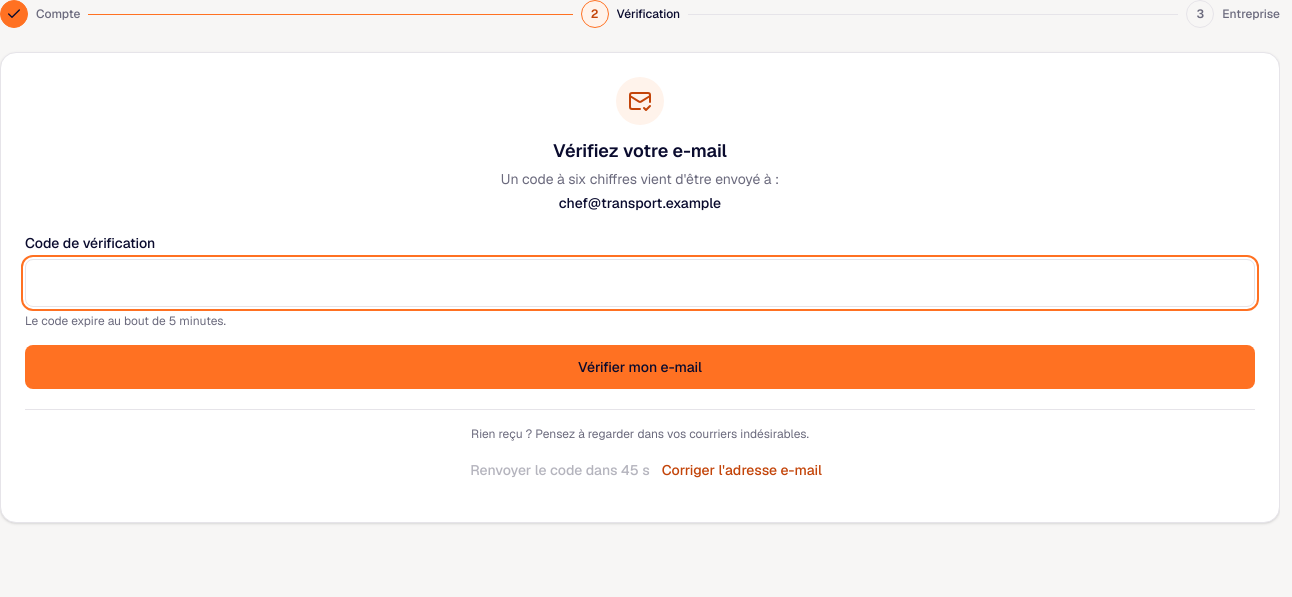
Test case: RegisterFlow › affiche l'expiration du code sans quitter l'étape
The width and height of the screenshot is (1292, 597).
Type "100420" into the field labelled "Code de vérification". click: x=640, y=283
box: 25,259 -> 1255,307
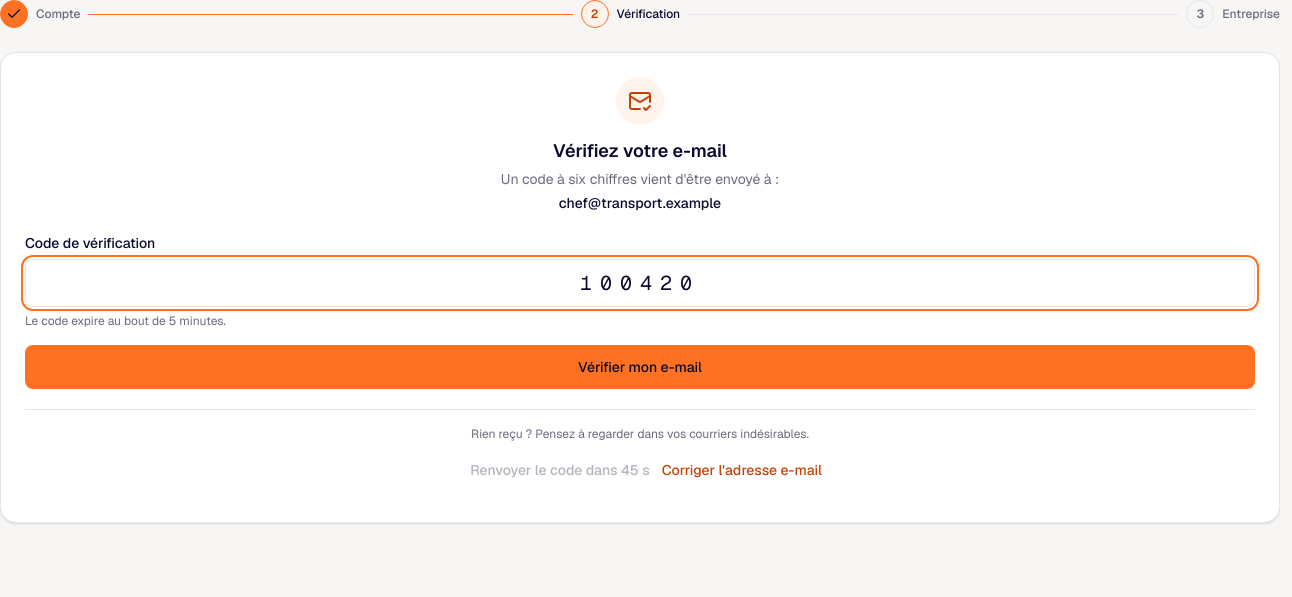
Click the button "Vérifier mon e-mail". click: x=640, y=367
box: 25,345 -> 1255,389
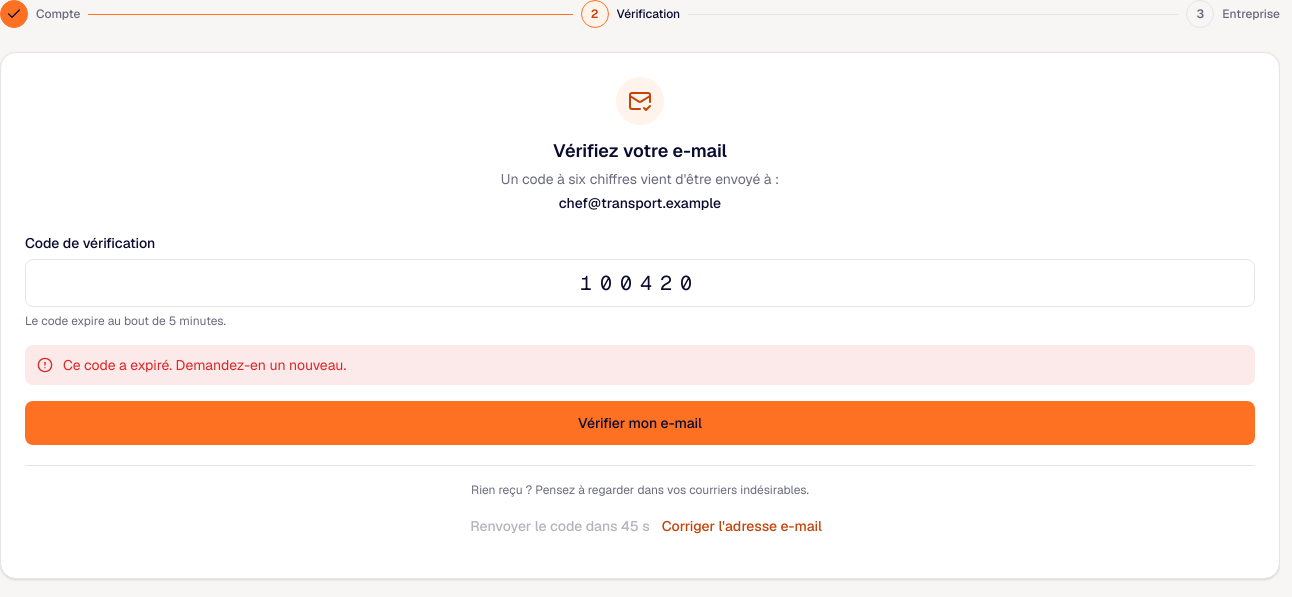
Expected: the text "Ce code a expiré. Demandez-en un nouveau." is shown, 63,355 -> 346,375
